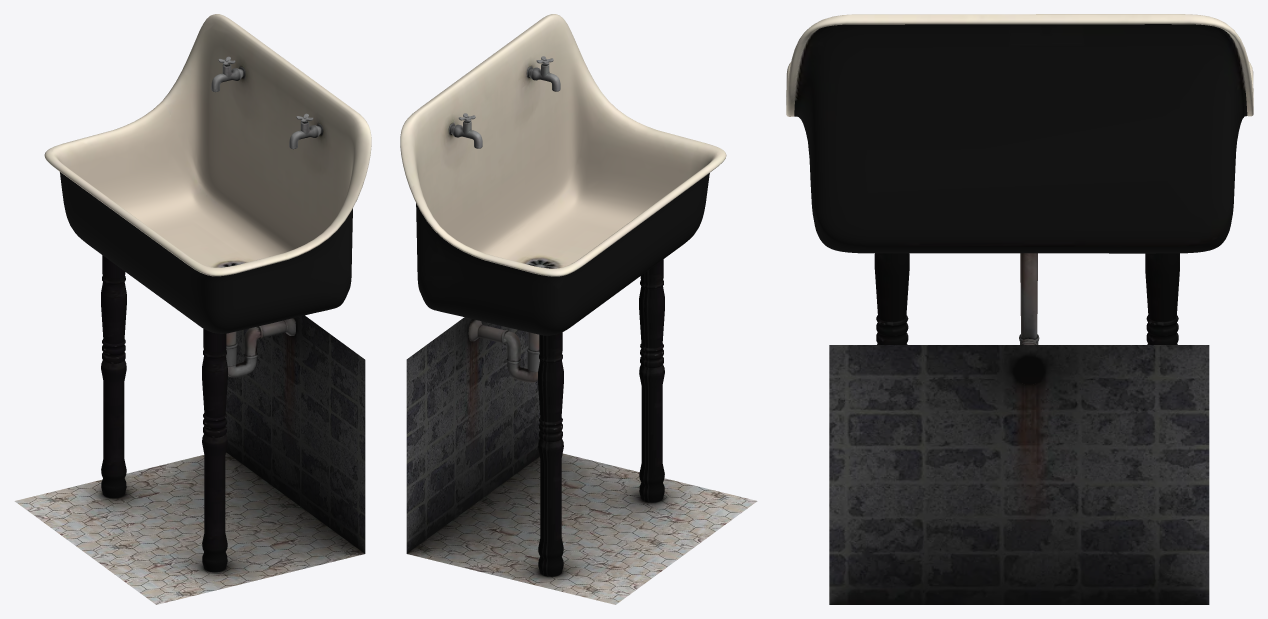
File: sink-utility.glb
3 renders of one model, left to right at view 1: azimuth 30°, elevation 25°; view 2: azimuth 150°, elevation 25°; view 3: azimuth 270°, elevation 25°, orthographic. The views are drawn at different scales.
Visible parts, largest first — view 1: Object_4, Object_2, Object_3; view 2: Object_4, Object_2, Object_3; view 3: Object_4, Object_2.
Part boxes in pixels (<box>): Object_4: <box>44,14,371,572</box>; Object_2: <box>14,315,365,604</box>; Object_3: <box>211,56,323,149</box>; Object_4: <box>400,14,726,576</box>; Object_2: <box>406,317,757,604</box>; Object_3: <box>449,56,560,148</box>; Object_4: <box>786,14,1253,344</box>; Object_2: <box>829,345,1209,604</box>.
Size of the model in its own units: 0.4731 by 0.95 by 0.6837.
Materials: 2 (2 with a texture image).
